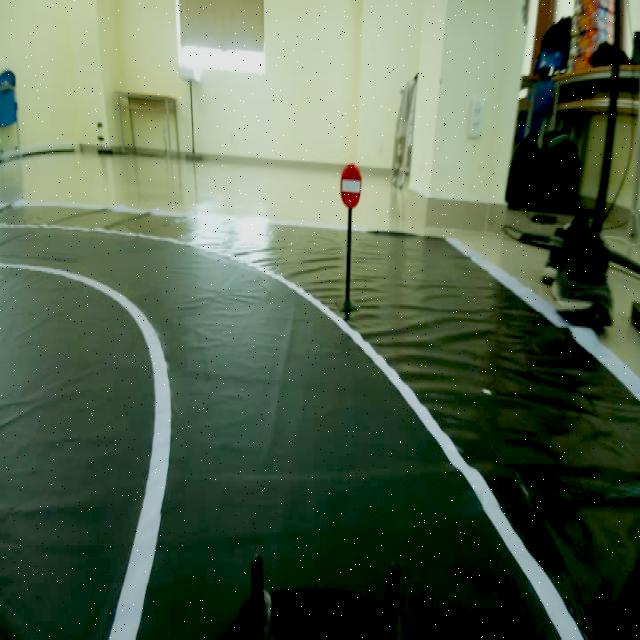no_entry: (336, 154, 370, 214)
